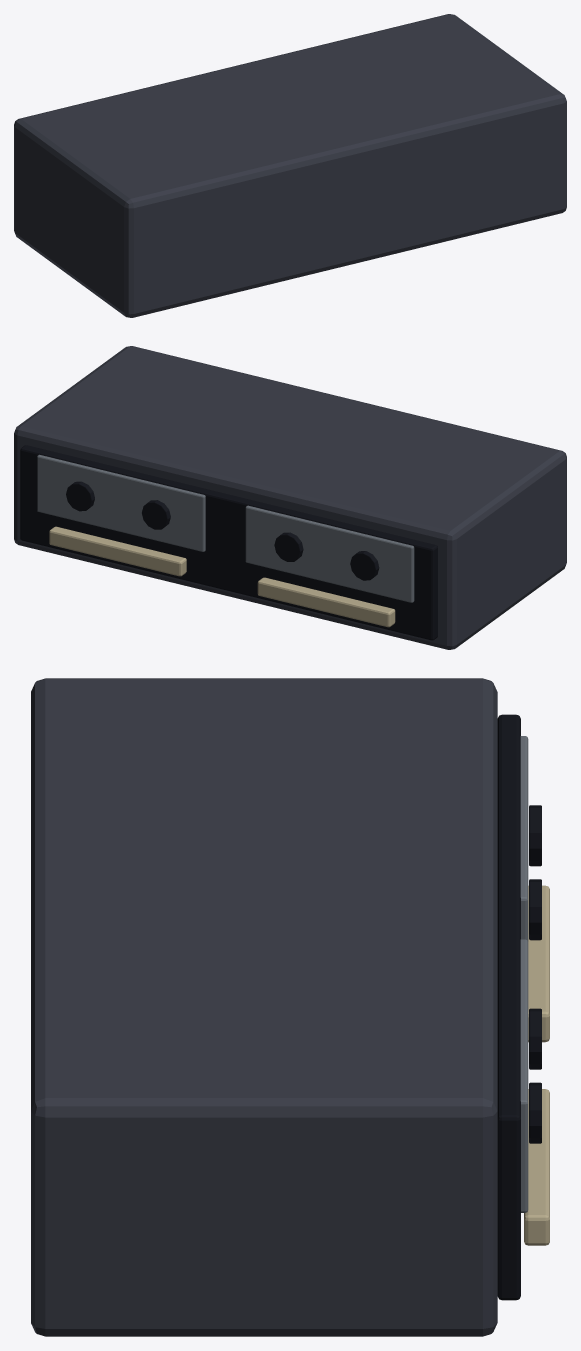
The model's file is cassette_deck_dual.glb.
3 views of the same model, one above another, from view 1: azimuth 30°, elevation 25°; view 2: azimuth 150°, elevation 25°; view 3: azimuth 270°, elevation 25° (orthographic). The views are drawn at different scales.
Visible parts, largest first — view 1: cassette_deck_dual; view 2: cassette_deck_dual; view 3: cassette_deck_dual.
Boxes of the visible parts, left/top/right/bottom form: cassette_deck_dual: left=14, top=14, right=566, bottom=317; cassette_deck_dual: left=14, top=346, right=566, bottom=649; cassette_deck_dual: left=31, top=678, right=549, bottom=1336.
Size of the model in its own units: 0.7 by 0.18 by 0.356.
